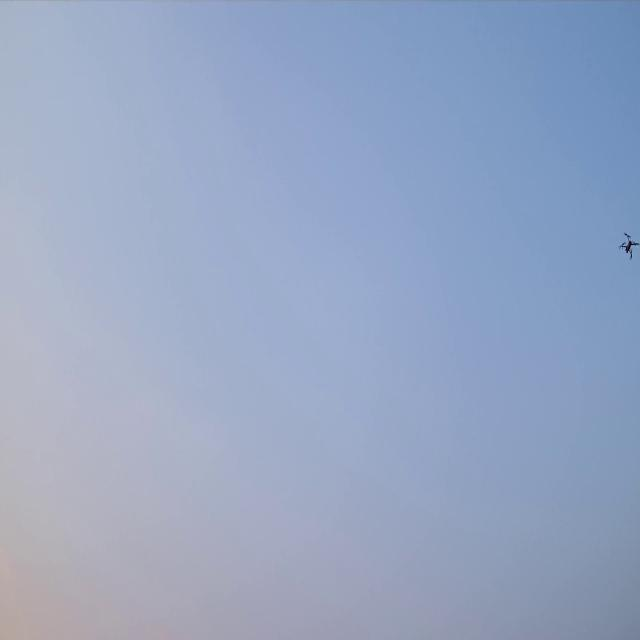UAV: (621, 234, 638, 257)
